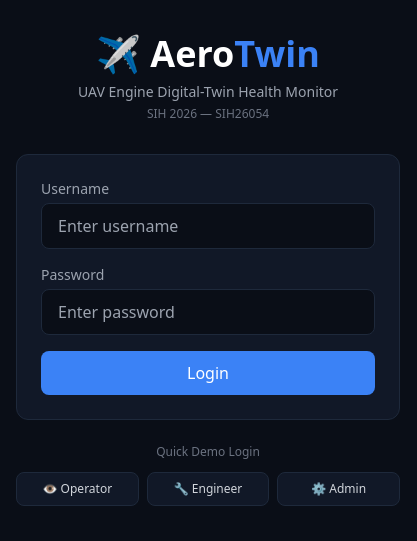
Test: LoginPage › shows an error and stays on the page when credentials are wrong
Type "x" into the field with placeholder "Enter username" at (208, 226), box [41,203,375,249]
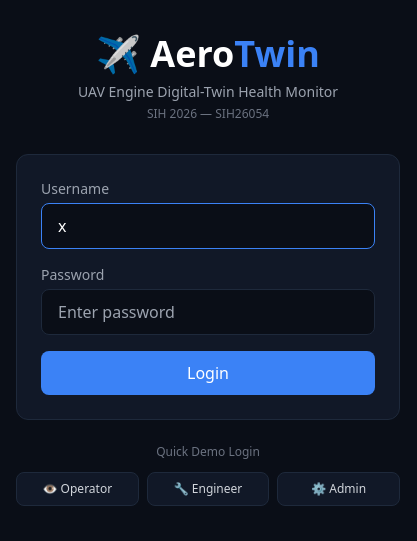
Click the button "Login" at (208, 373), box [41,351,375,395]
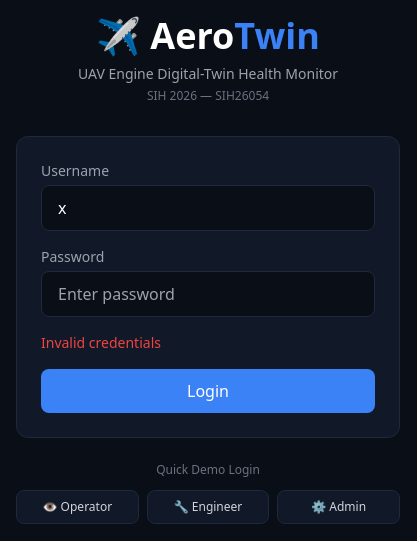
Expected: the button "Login" is enabled, [41,369,375,413]
Expected: the text "Invalid credentials" is shown, [41,333,161,352]
